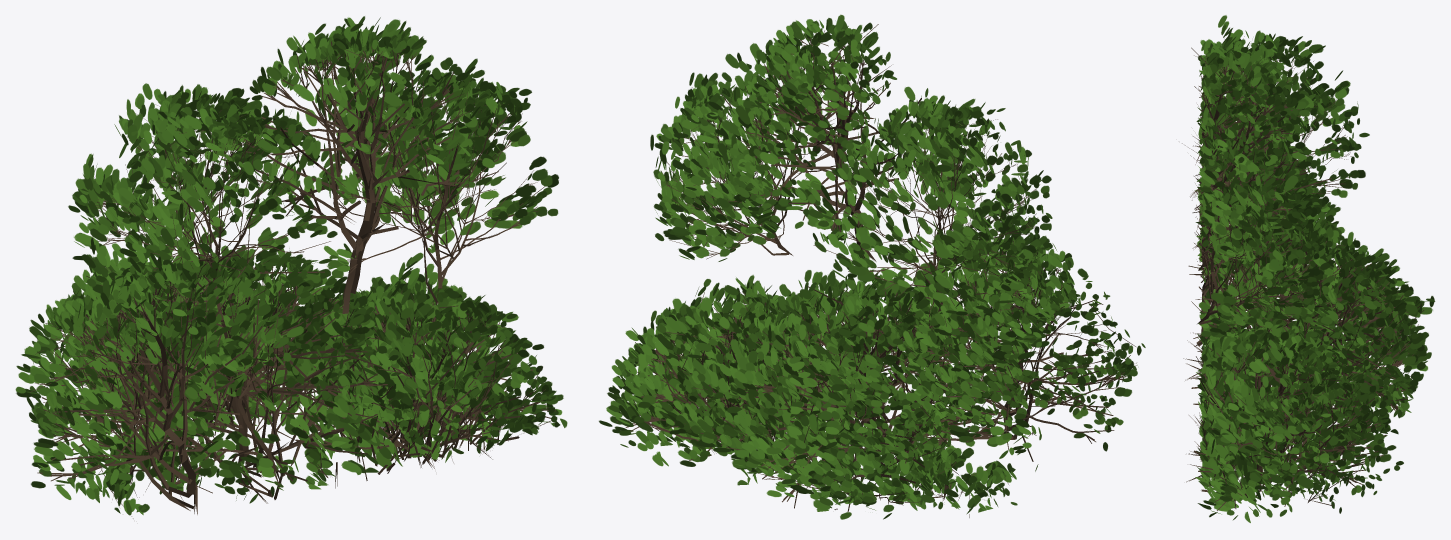
3 renders of one model, left to right at view 1: azimuth 30°, elevation 25°; view 2: azimuth 150°, elevation 25°; view 3: azimuth 270°, elevation 25°, orthographic. The views are drawn at different scales.
Parts seen in each view (by area): view 1: oak 01.001_trunk_Mat.001_0.412; view 2: oak 01.001_trunk_Mat.001_0.412; view 3: oak 01.001_trunk_Mat.001_0.412.
Boxes of the visible parts, box(x1,y1,x2,y2) form: oak 01.001_trunk_Mat.001_0.412: box(15, 16, 567, 518); oak 01.001_trunk_Mat.001_0.412: box(599, 14, 1145, 519); oak 01.001_trunk_Mat.001_0.412: box(1182, 15, 1435, 522).
Size of the model in its own units: 4.12 by 3.29 by 1.92.
2 materials, 1 textured.
